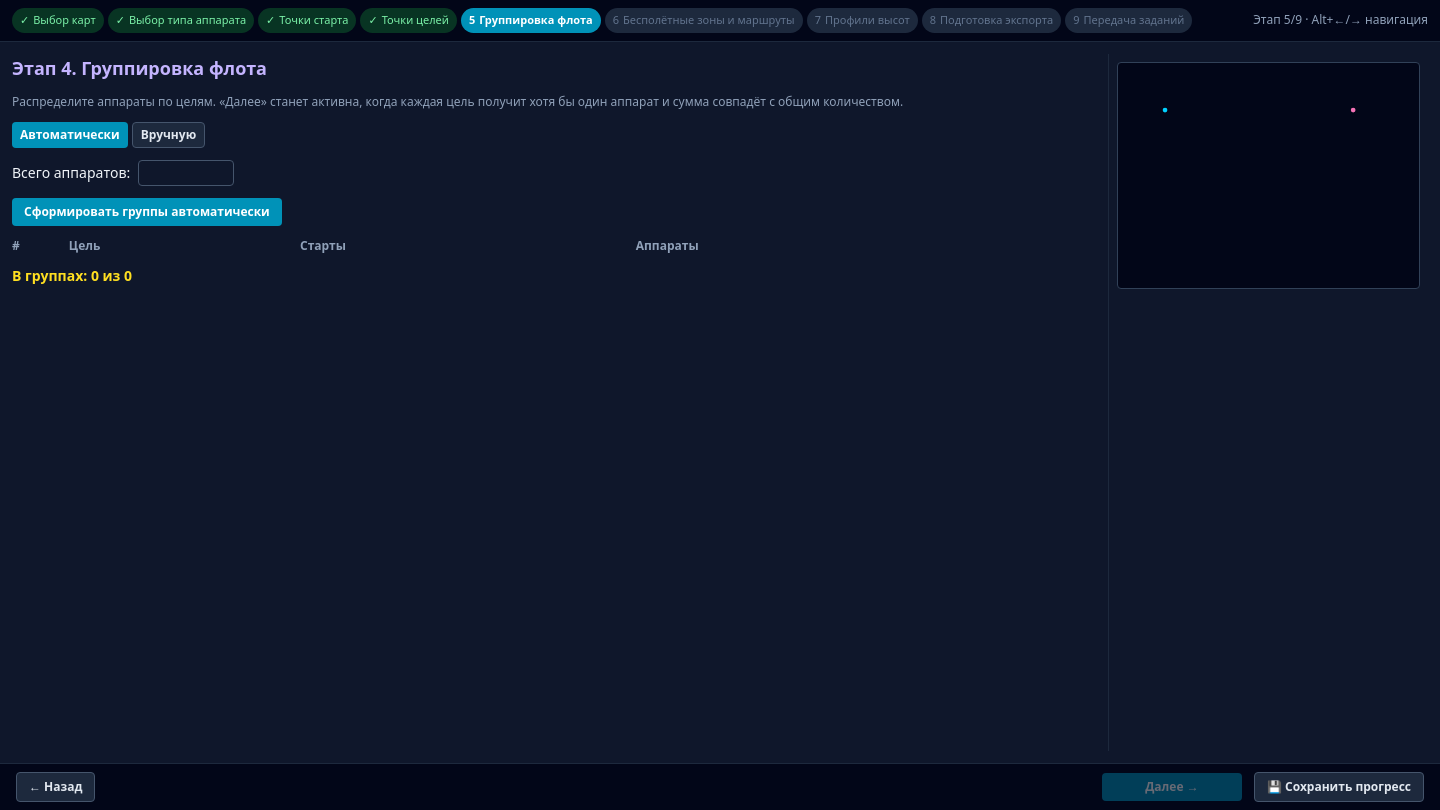
Test: Этап 5 UI — FleetFormationStep › автозаполнение создаёт группы и открывает переход
Step 1. Type "3" into the number field with test id "total-craft" → (186, 172), box [138,160,234,186]
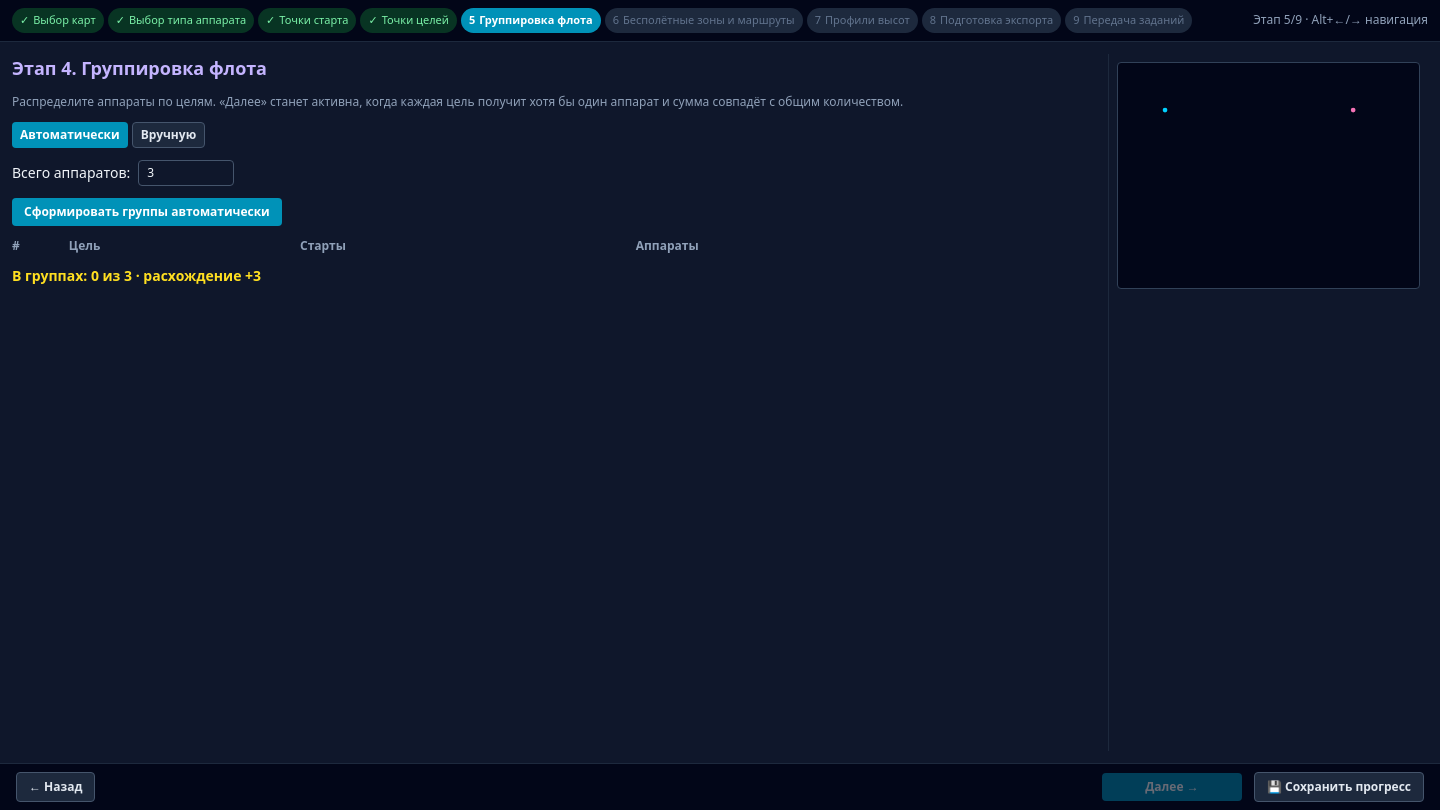
Step 2. Click the button with test id "autofill-btn" → click(147, 212), box [12,198,282,226]
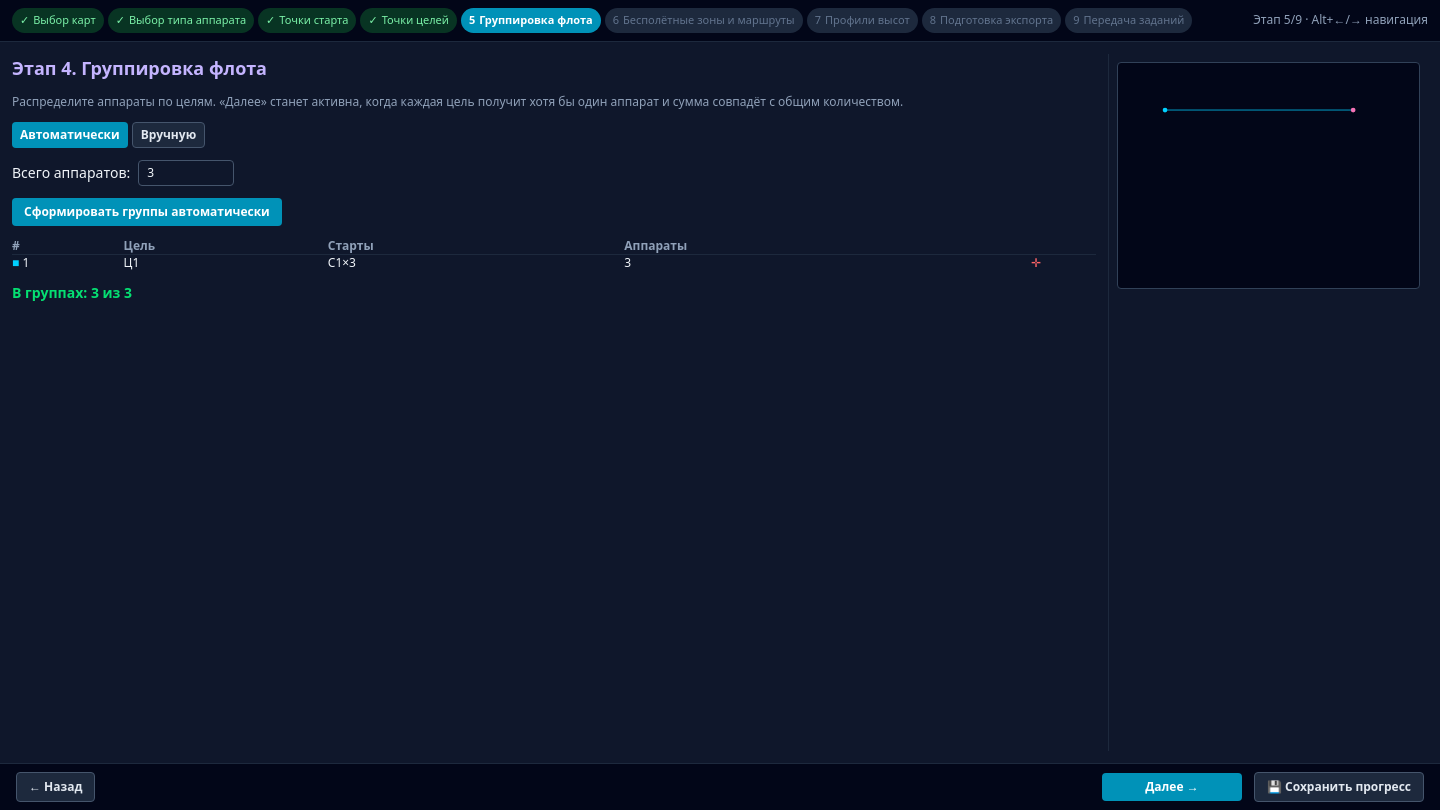
Result: the button "Далее →" is enabled at [1102,773,1242,801]
